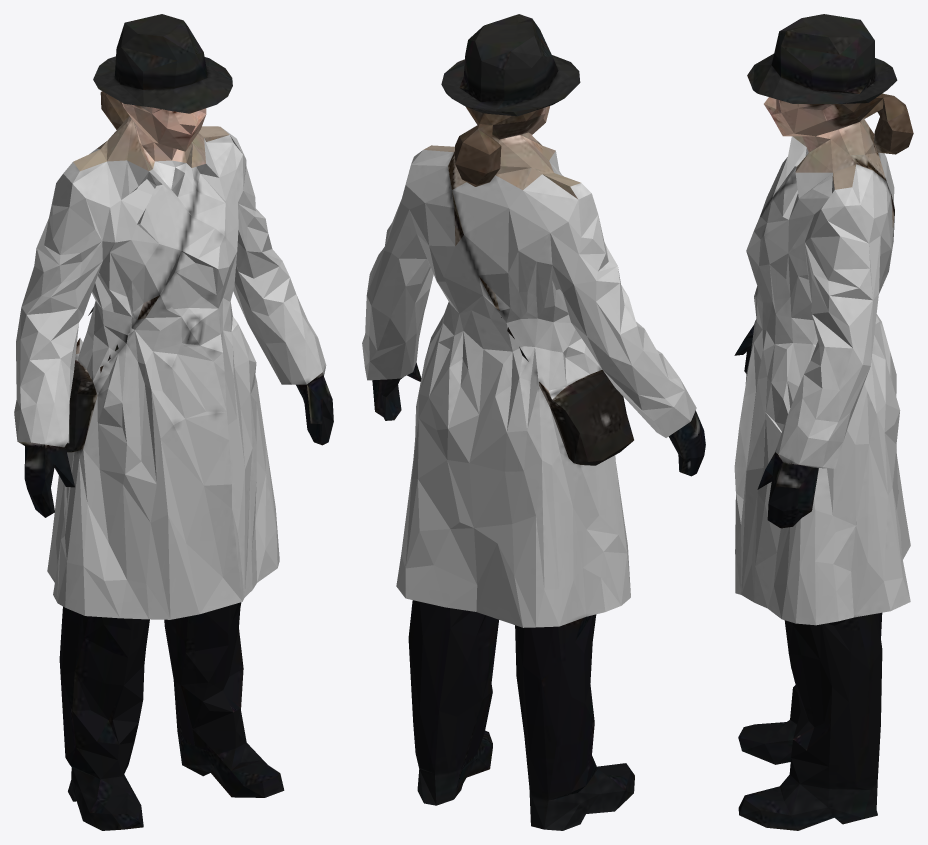
Rendered from realistic-cc0.95bf4458adc9.spy.glb.
The picture shows the model from 3 angles, left to right: view 1: azimuth 30°, elevation 25°; view 2: azimuth 150°, elevation 25°; view 3: azimuth 270°, elevation 25°; orthographic projection.
Visible parts, largest first — view 1: spy; view 2: spy; view 3: spy.
Part boxes in pixels (x1=…): spy: x1=14, y1=14, x2=333, y2=830; spy: x1=362, y1=14, x2=705, y2=830; spy: x1=734, y1=14, x2=913, y2=830.
Bounding box in the file's own units: 0.7511 × 1.75 × 0.372.
Materials: 2 (2 with a texture image).
